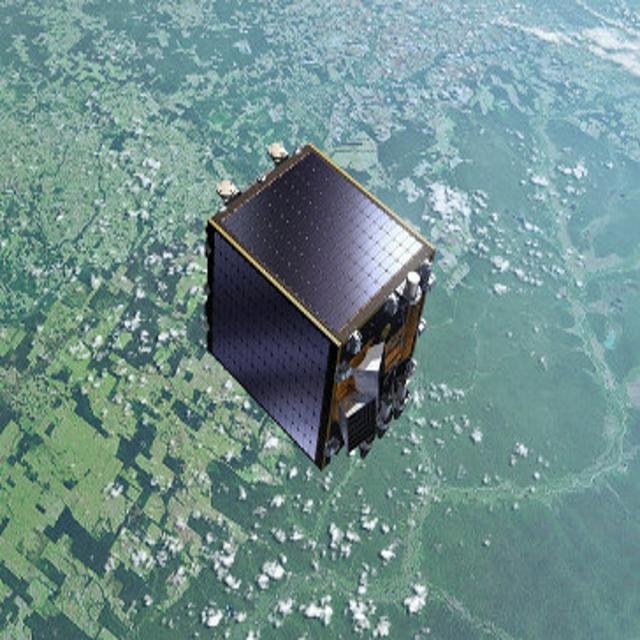medium_debris: (196, 121, 432, 485)
